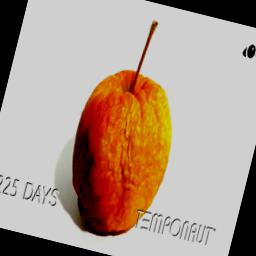Apple Rotten: (47, 0, 210, 249)
